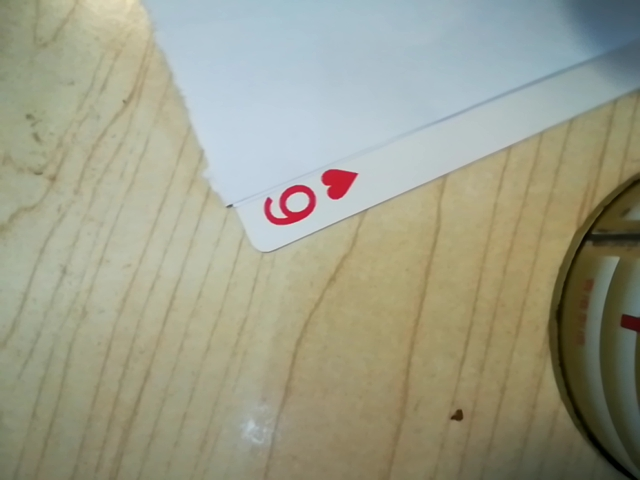hx 6: (251, 168, 357, 237)
